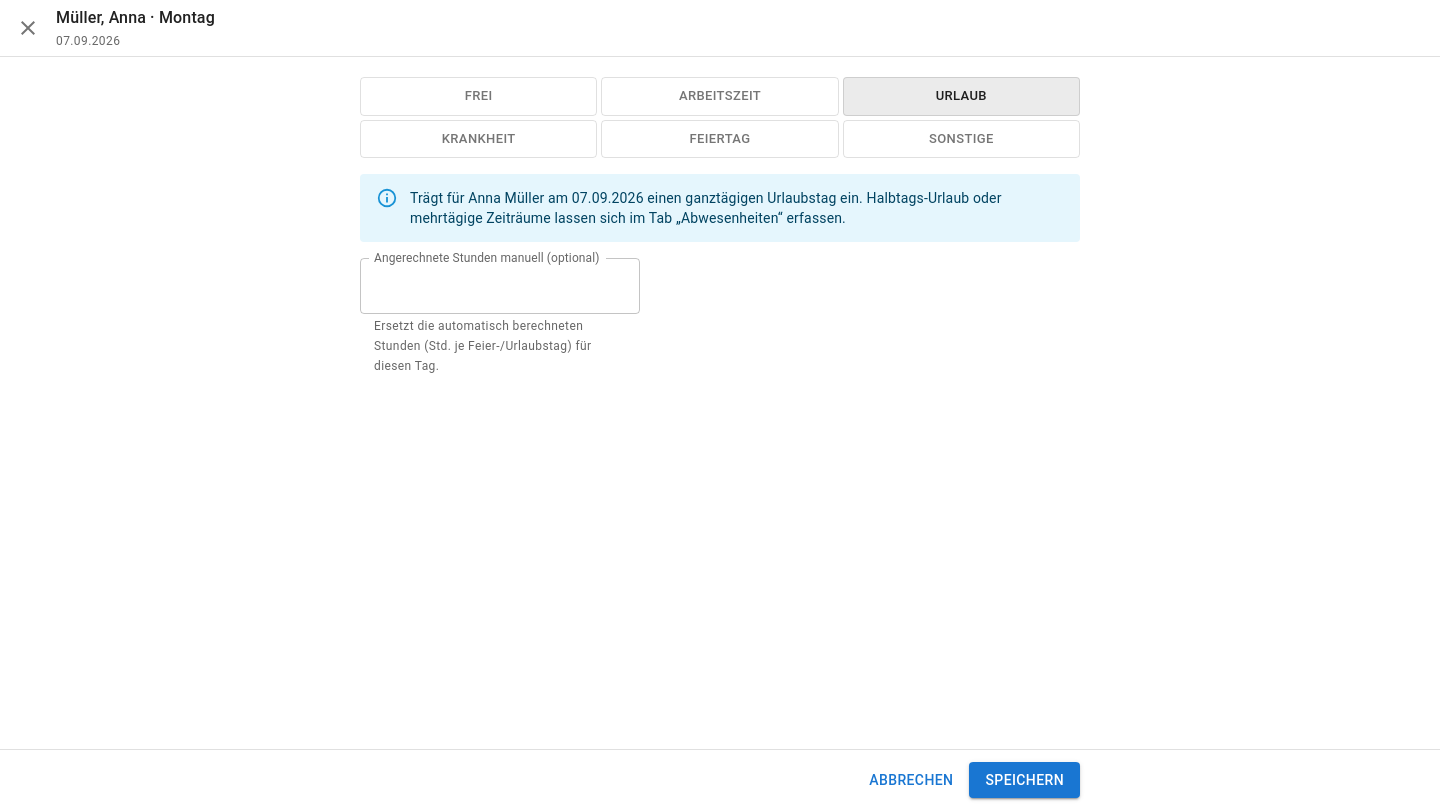
Scenario: DayEditor › asks for at least one shift when switching an absence day to work time
Click the button "Arbeitszeit".
click(720, 96)  # box x1=601 y1=77 x2=839 y2=116
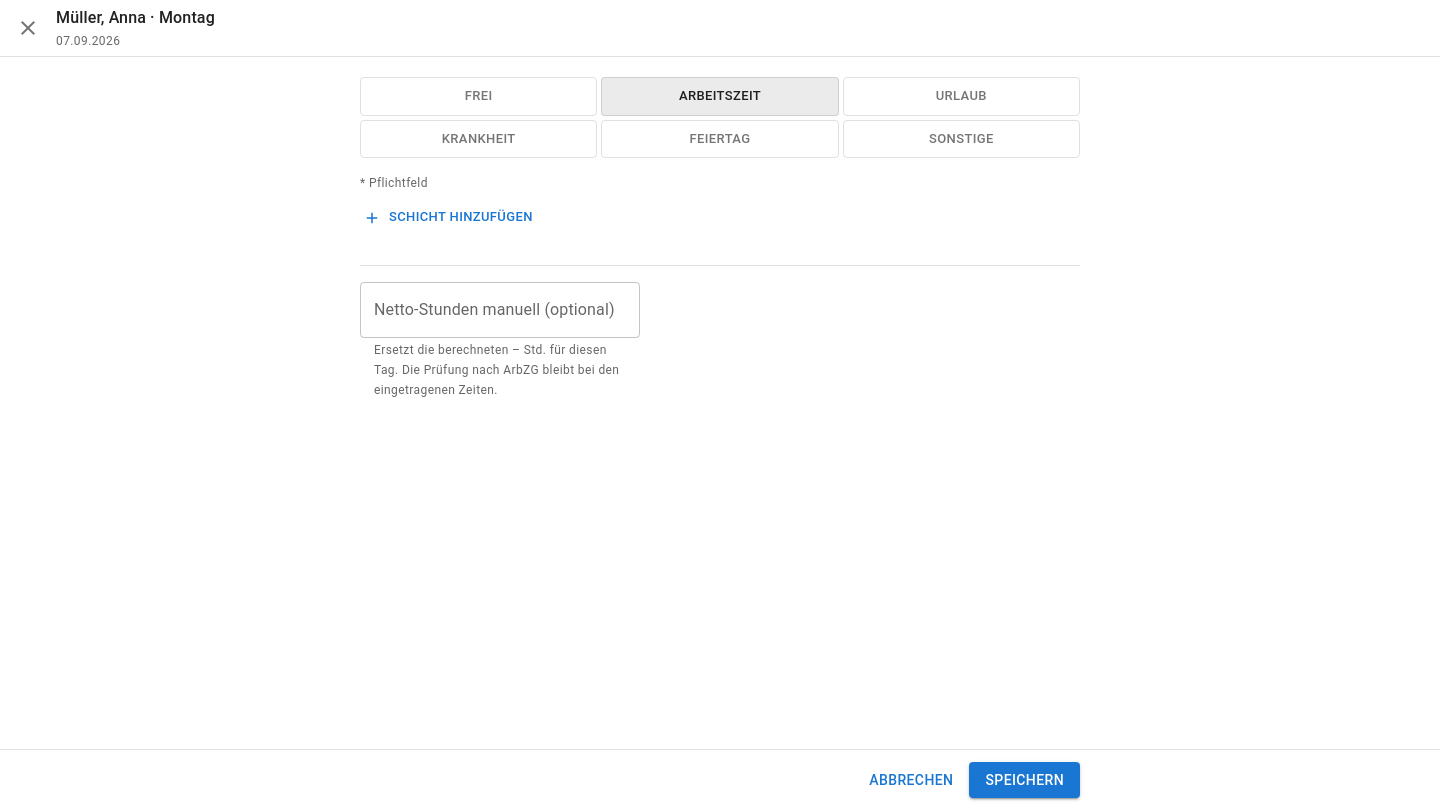
Click the button "Speichern".
click(1025, 780)  # box x1=969 y1=762 x2=1080 y2=798
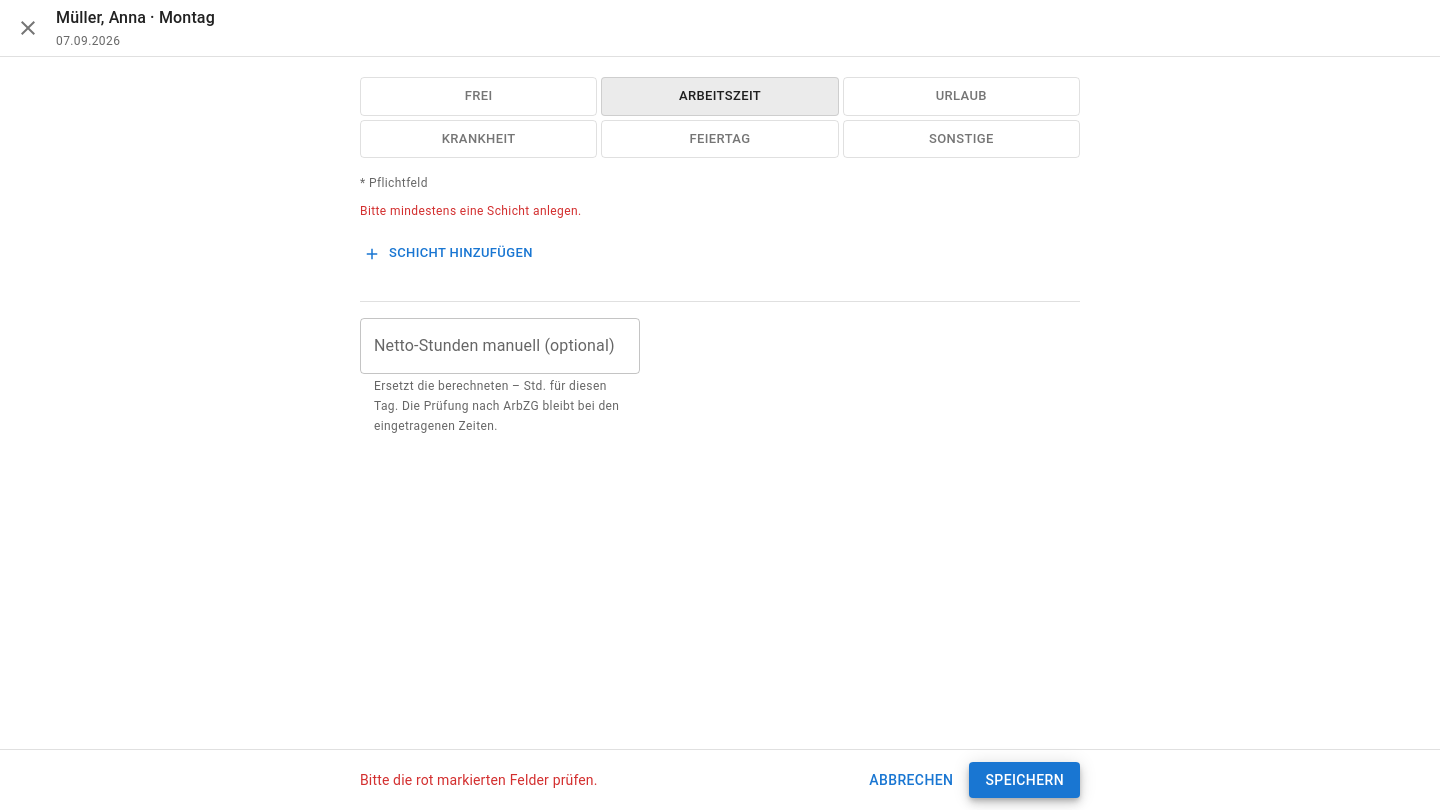
Check: the text "Bitte mindestens eine Schicht anlegen." is shown, box x1=360 y1=204 x2=582 y2=218
Click the button "Schicht hinzufügen".
click(449, 254)  # box x1=360 y1=238 x2=538 y2=269
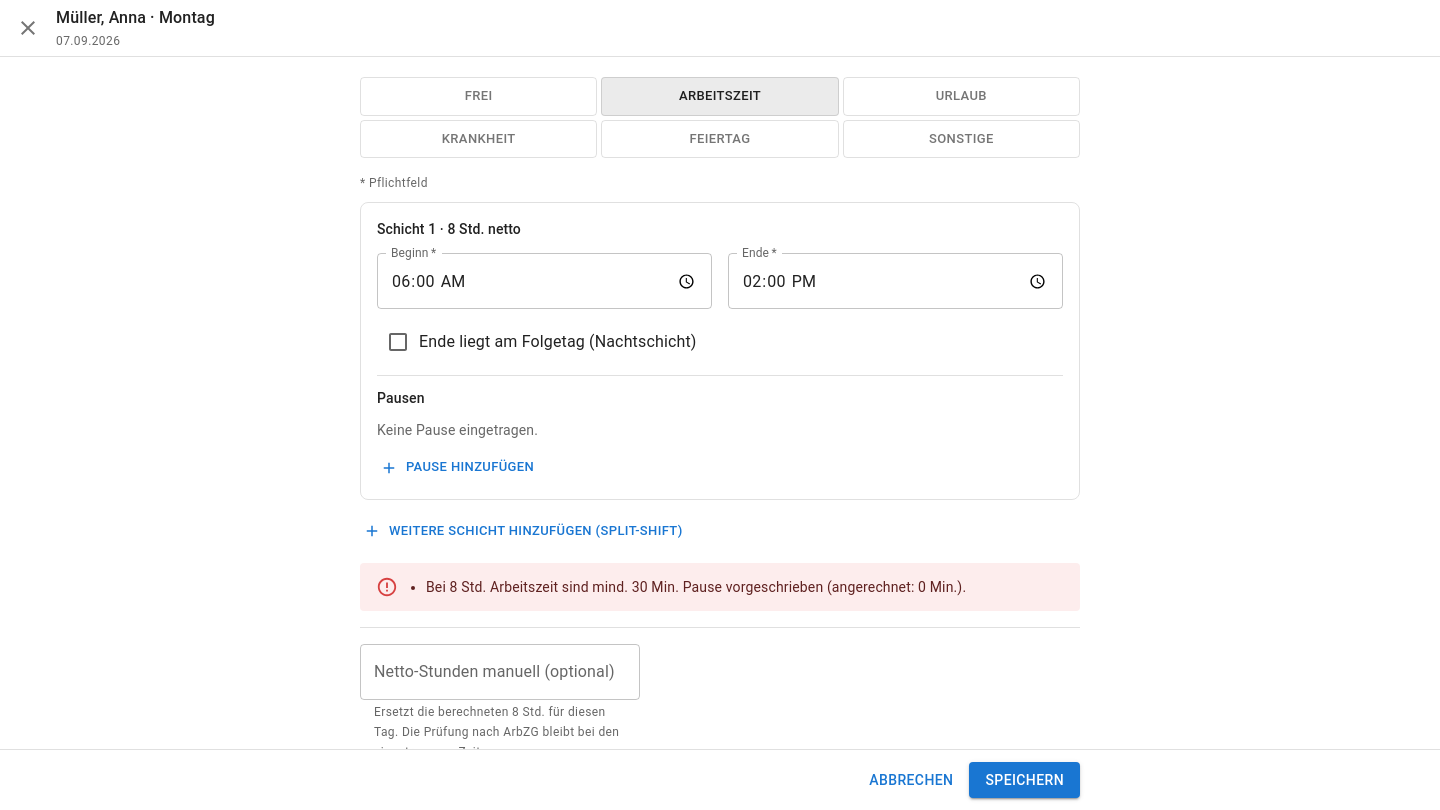
Check: the text "Bitte mindestens eine Schicht anlegen." is gone
